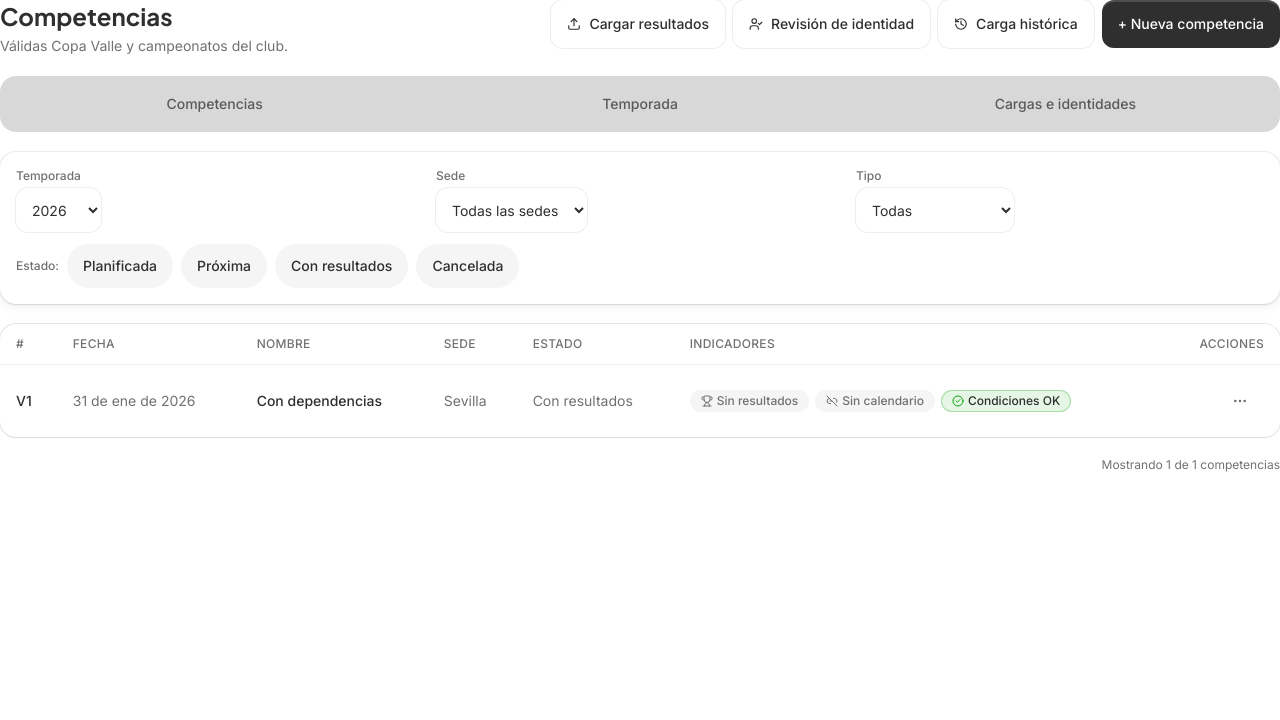
CompetitionsListPage — delete admin › error 409: muestra mensaje de dependencias dentro del dialog
Expected: the link "Con dependencias" is shown, [257,392,382,409]
Click the button named "Acciones para Con dependencias" at (1240, 401), box [1216,377,1264,425]
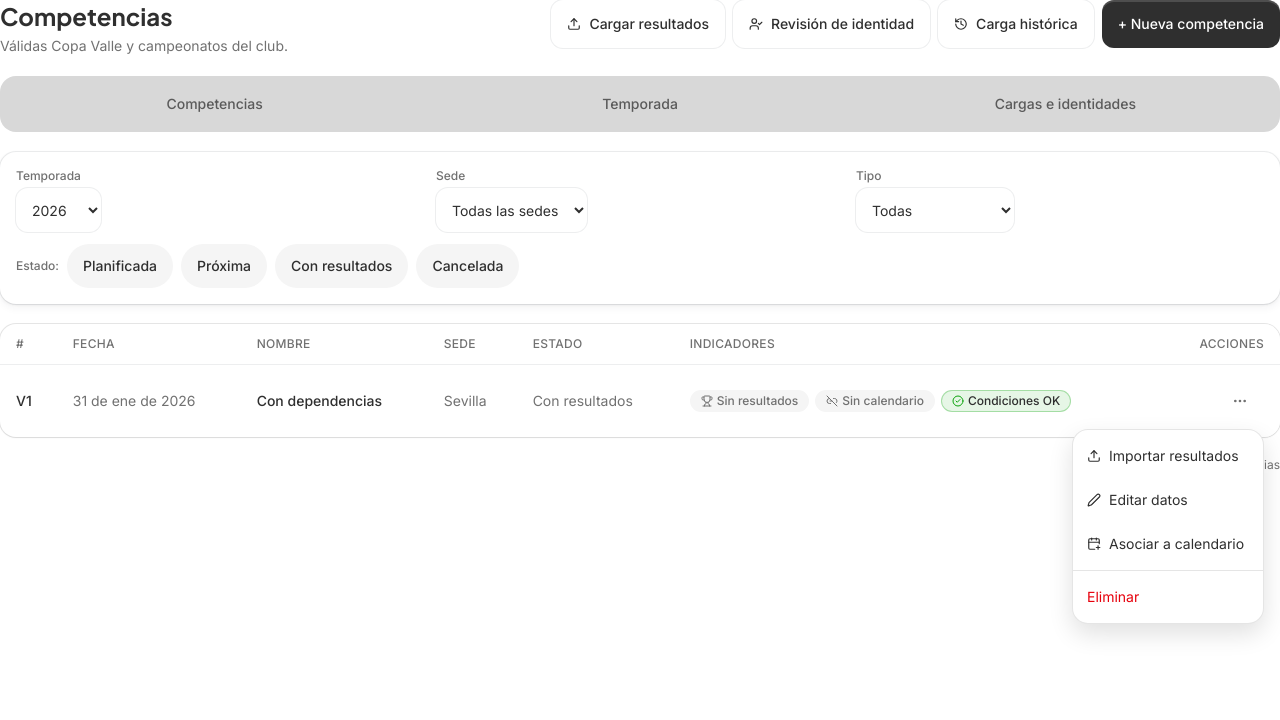
Click the menu item "Eliminar" at (1113, 596), box [1087,588,1139,605]
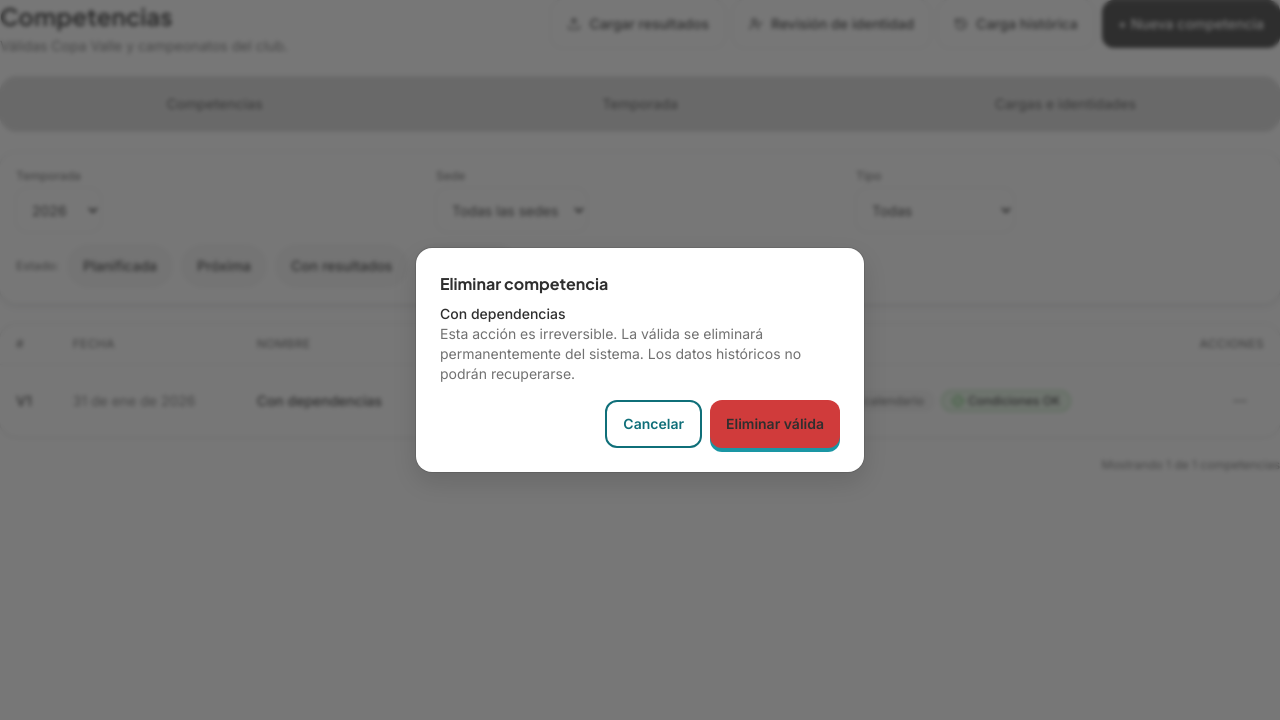
Click the button "Eliminar válida" at (775, 424), box [710,400,840,448]
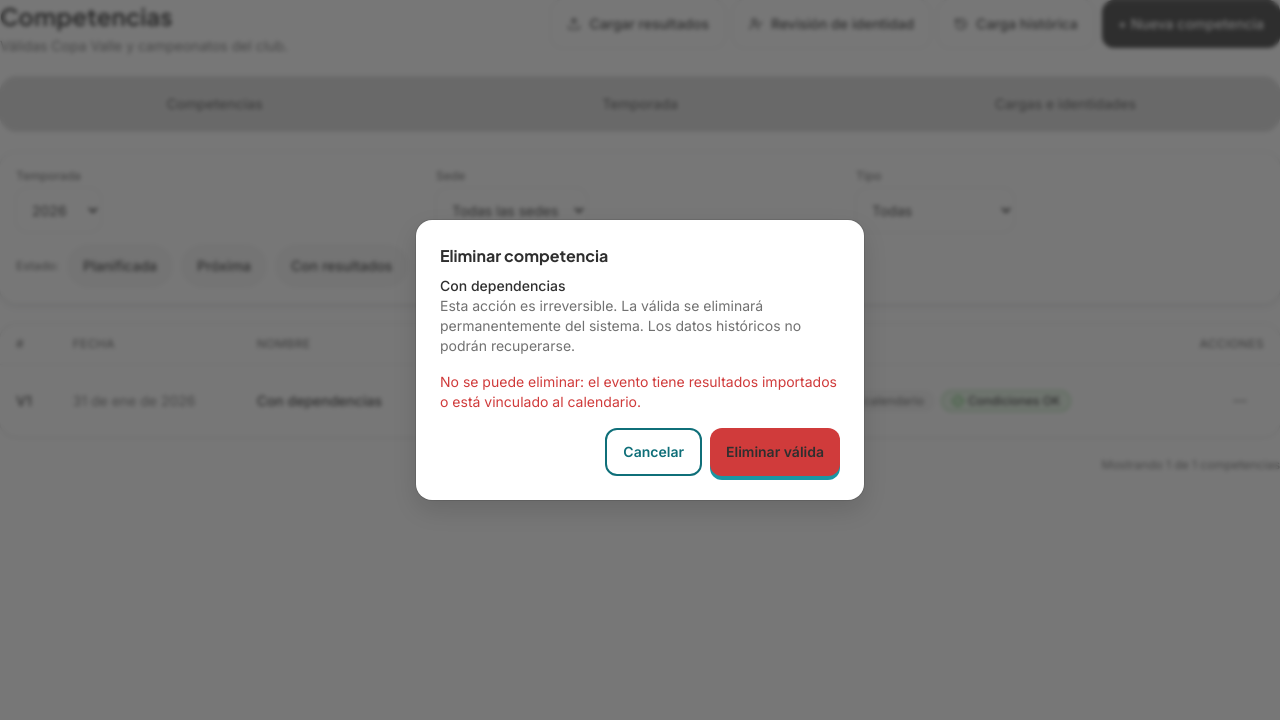
Expected: the text "resultados importados o está vinculado al calendario" is shown, [440,373,837,410]
